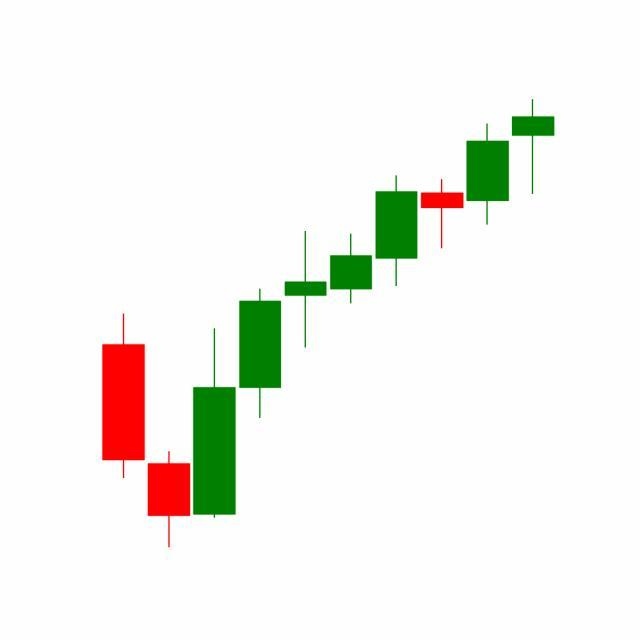Hikkake Pattern: (283, 121, 512, 351)
